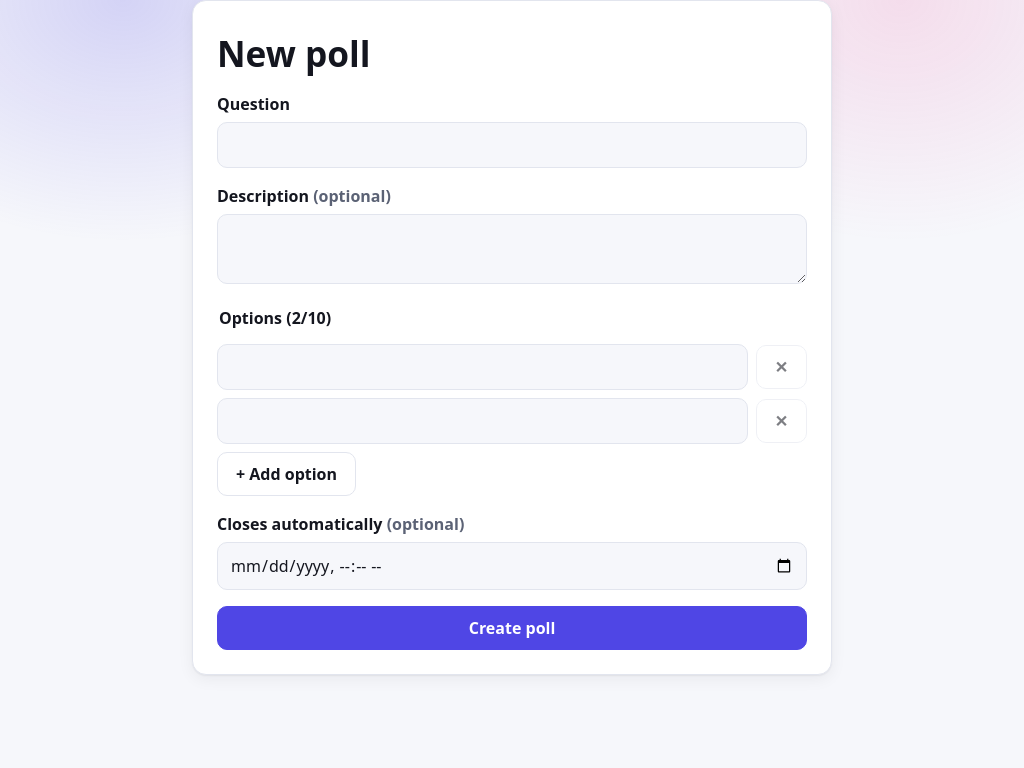
Test: CreatePoll › surfaces server validation errors
Type "Valid question" into the field labelled "Question" at (512, 145), box [217,122,807,168]
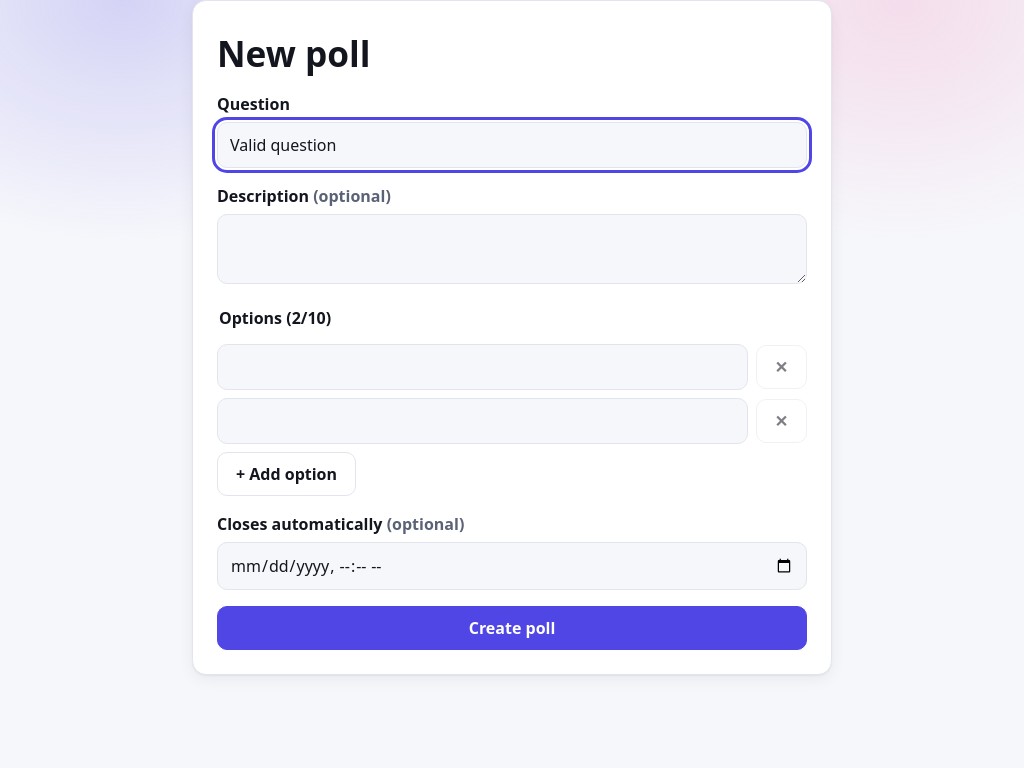
Type "a" into the field named "Option 1" at (482, 367), box [217,344,748,390]
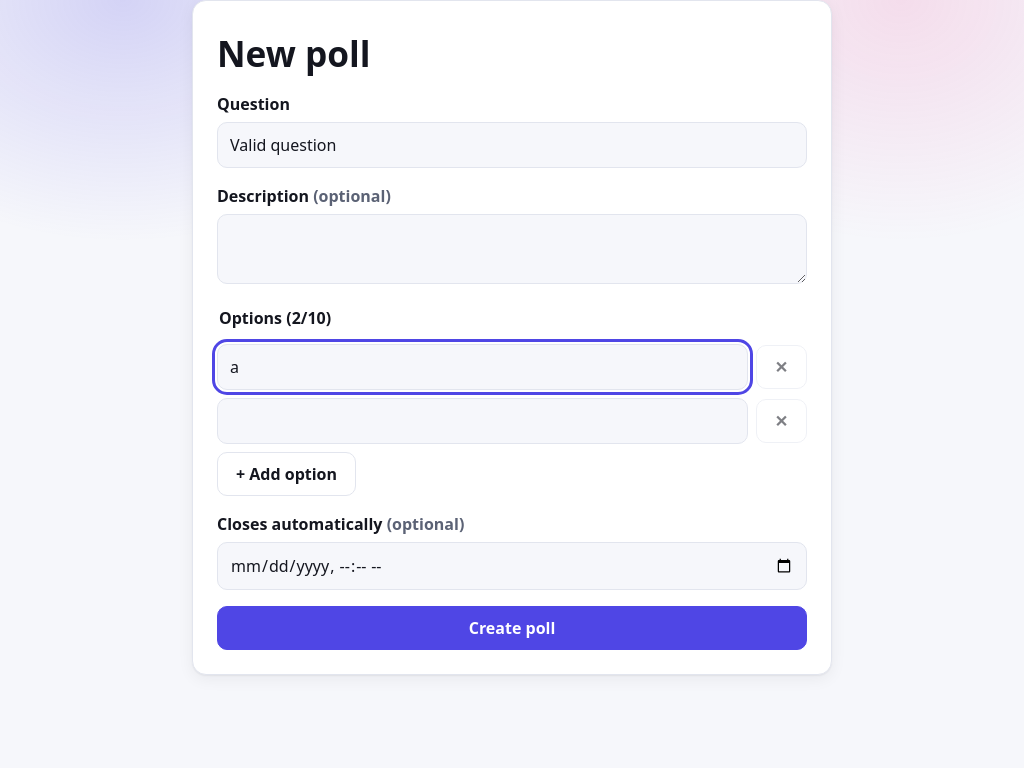
Type "b" into the field named "Option 2" at (482, 421), box [217,398,748,444]
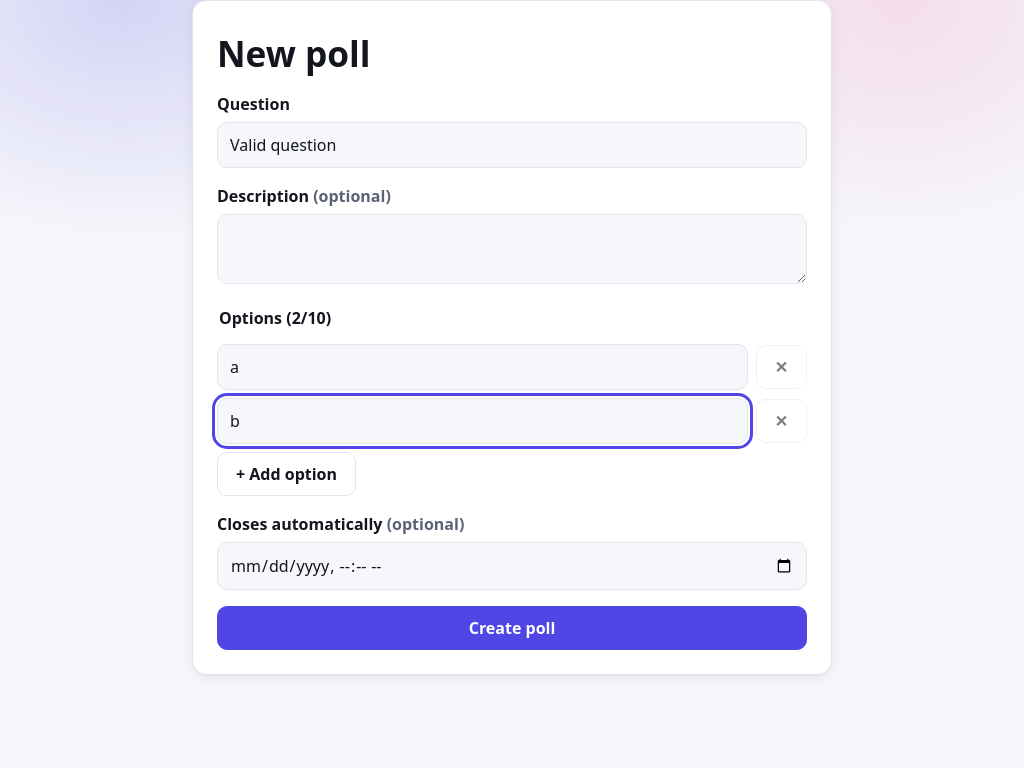
Click the button "Create poll" at (512, 628), box [217,606,807,650]
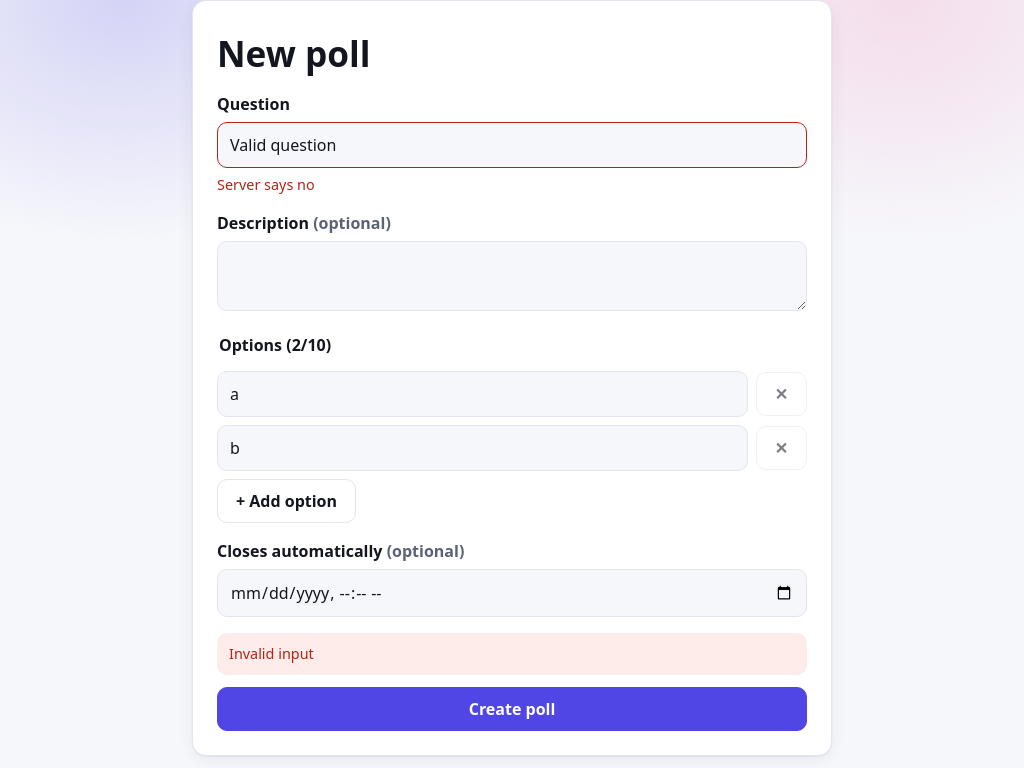
Expected: the text "Server says no" is shown, [217,175,315,194]
